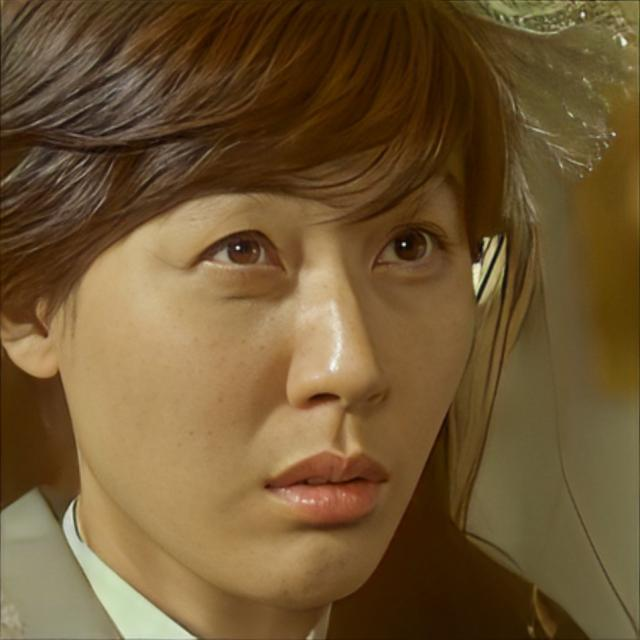sad: (59, 69, 480, 608)
